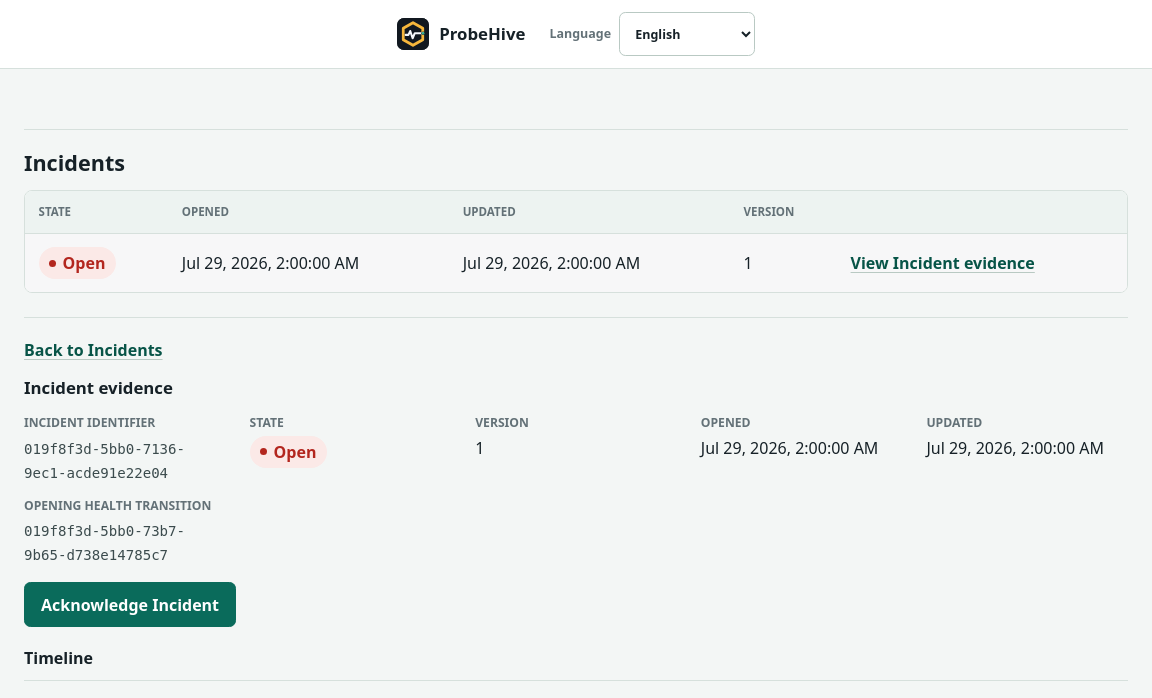
localizes the code-less resolved Incident conflict contract
Click the button "Acknowledge Incident": (130, 605) [24,582,236,627]
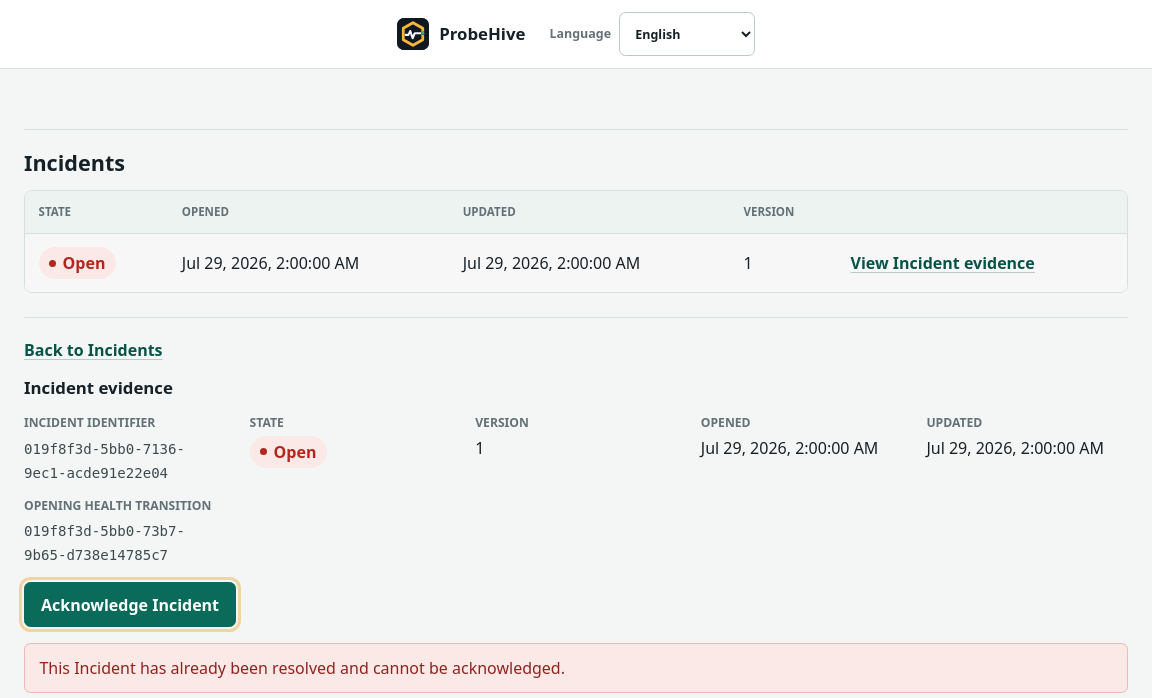
Check: the text "This Incident has already been resolved and cannot be acknowledged." is shown, box [24,643,1128,693]
